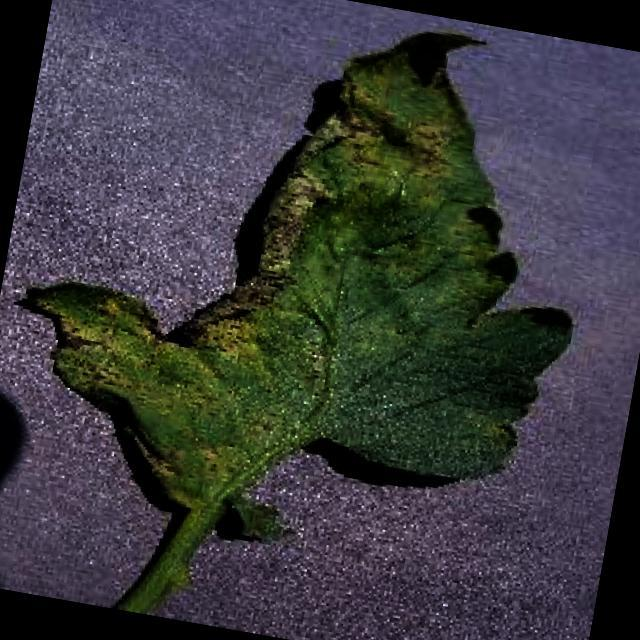Tomato Septoria spot leaf: (0, 0, 622, 592)
